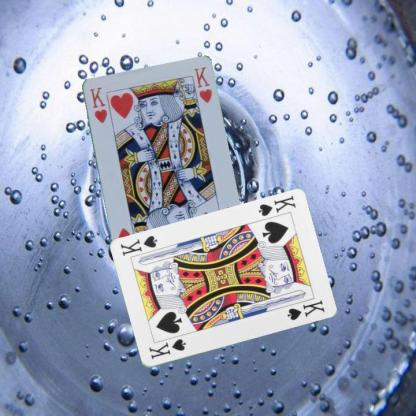Kh: (87, 84, 108, 125)
Ks: (255, 193, 297, 218), (146, 336, 187, 361)
